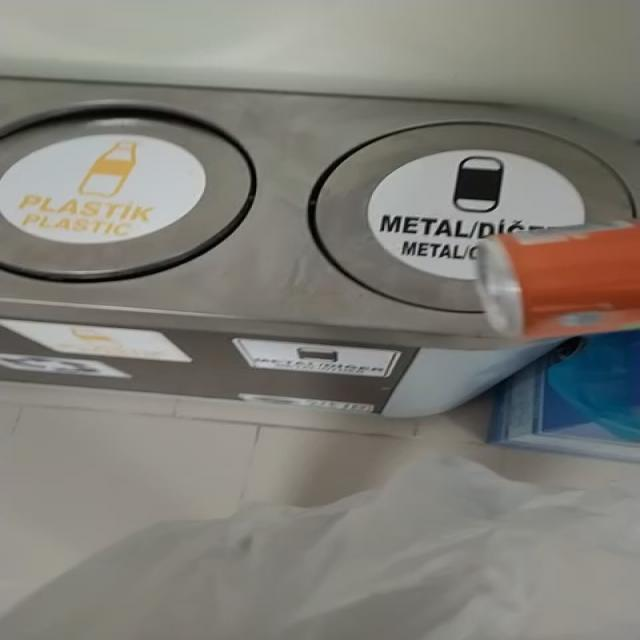Bin: (3, 78, 639, 417)
Metal: (479, 223, 640, 338)
